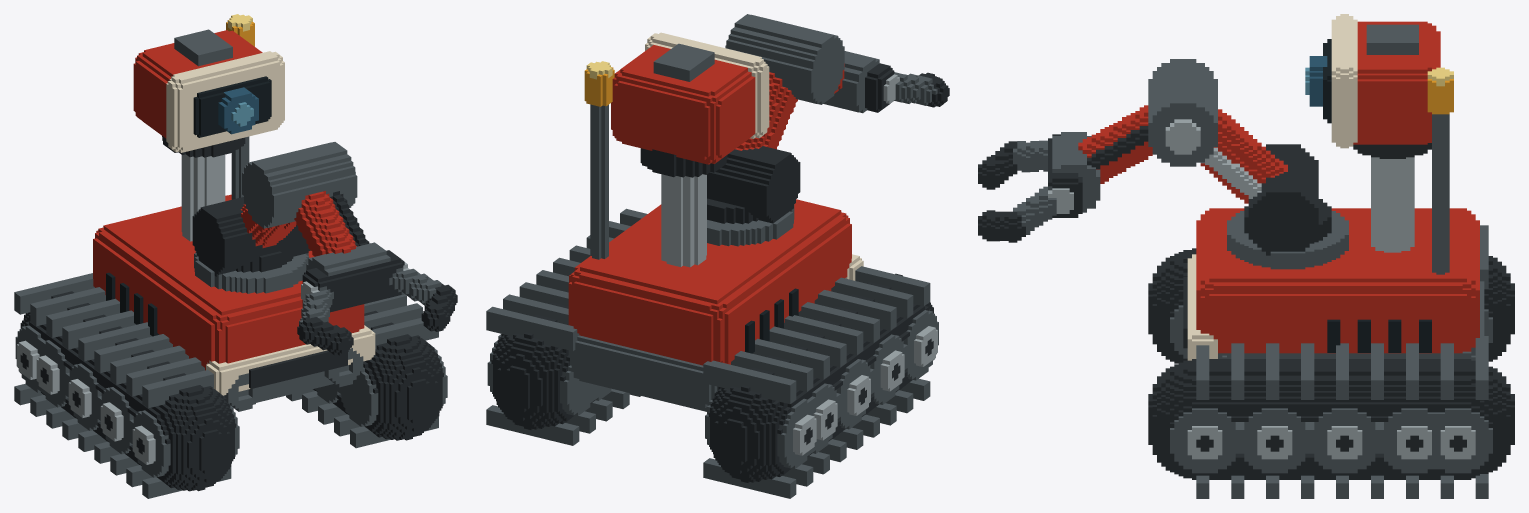
The model's file is rescue_robot.glb.
3 views of the same model, side by side, from view 1: azimuth 30°, elevation 25°; view 2: azimuth 150°, elevation 25°; view 3: azimuth 270°, elevation 25° (orthographic). The views are drawn at different scales.
Visible parts, largest first — view 1: rescue_robot; view 2: rescue_robot; view 3: rescue_robot.
Boxes of the visible parts, x1,y1,x2,y2 form: rescue_robot: (14,14,457,498); rescue_robot: (486,14,949,498); rescue_robot: (978,14,1514,498).
Bounding box in the file's own units: 2.12 × 2.45 × 3.08.
